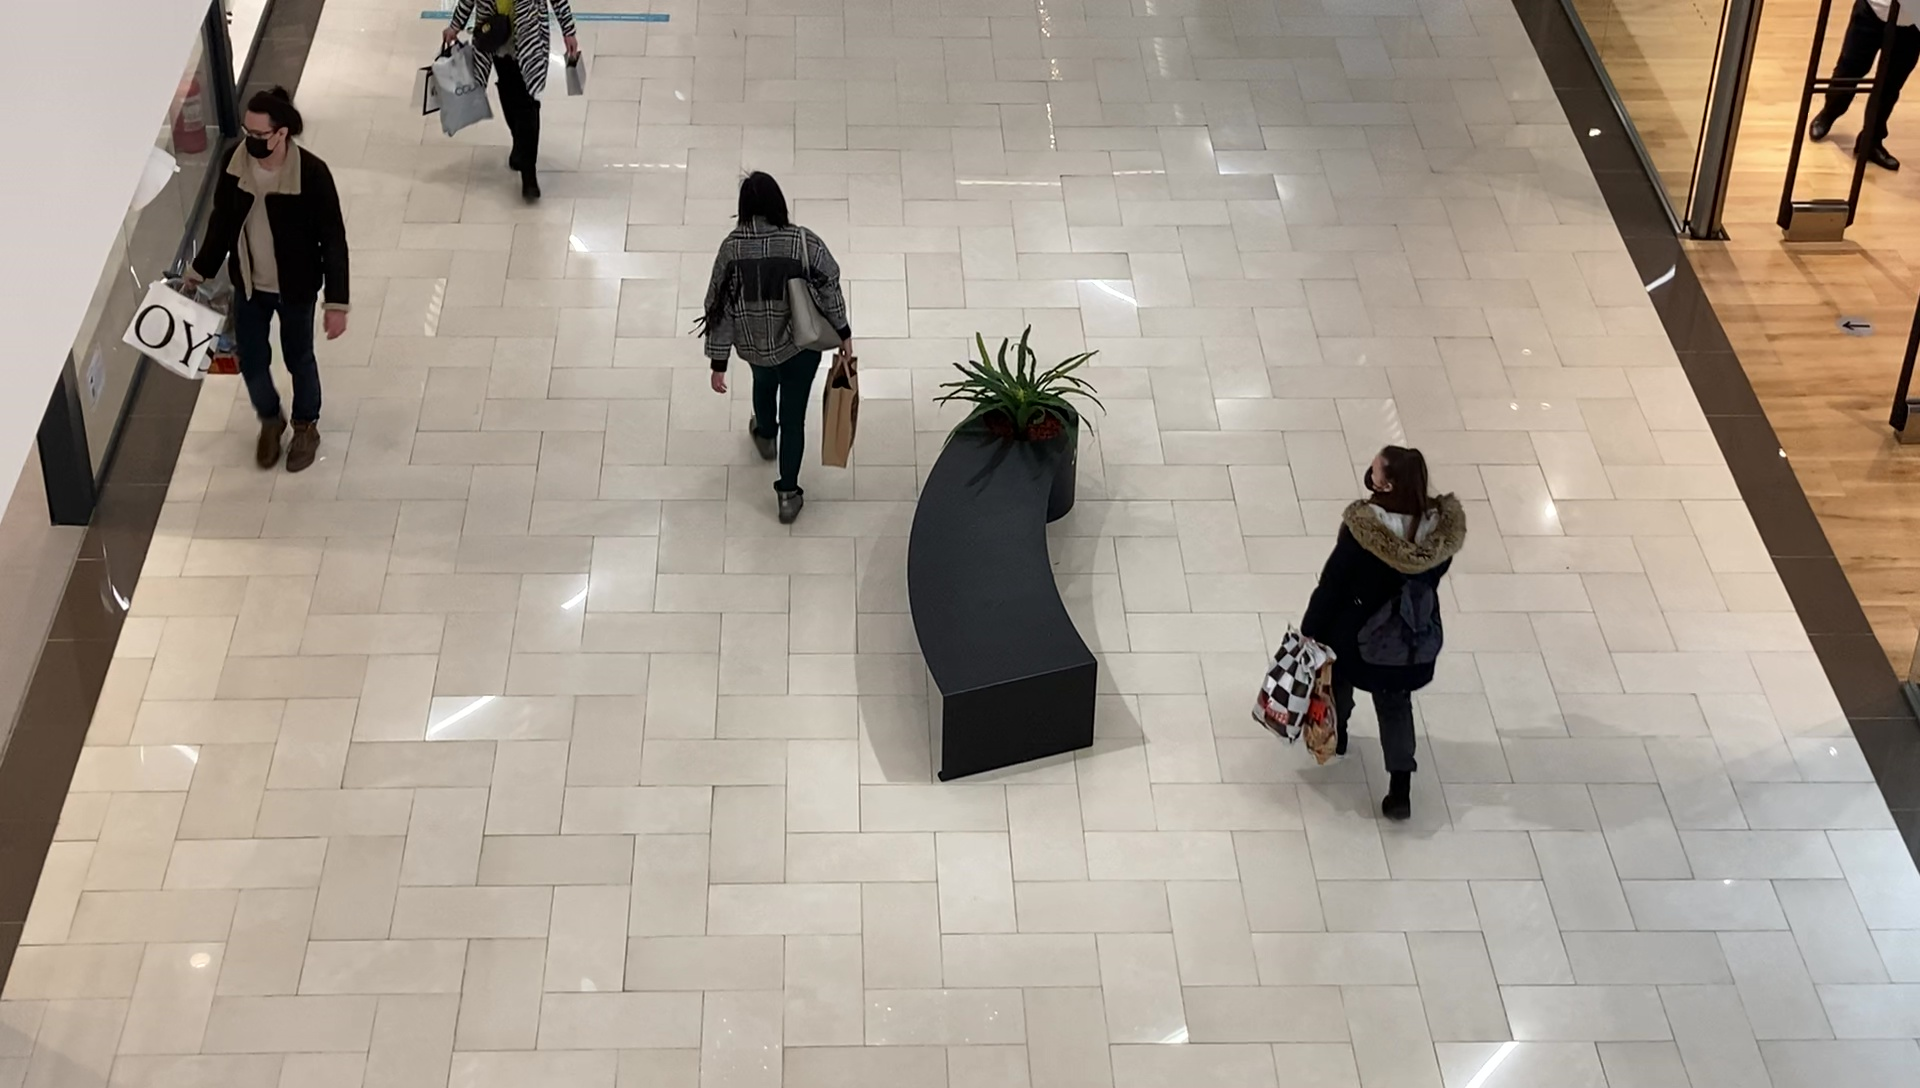person: (186, 90, 353, 474), (1305, 446, 1470, 821), (703, 171, 854, 525), (442, 1, 582, 203)
